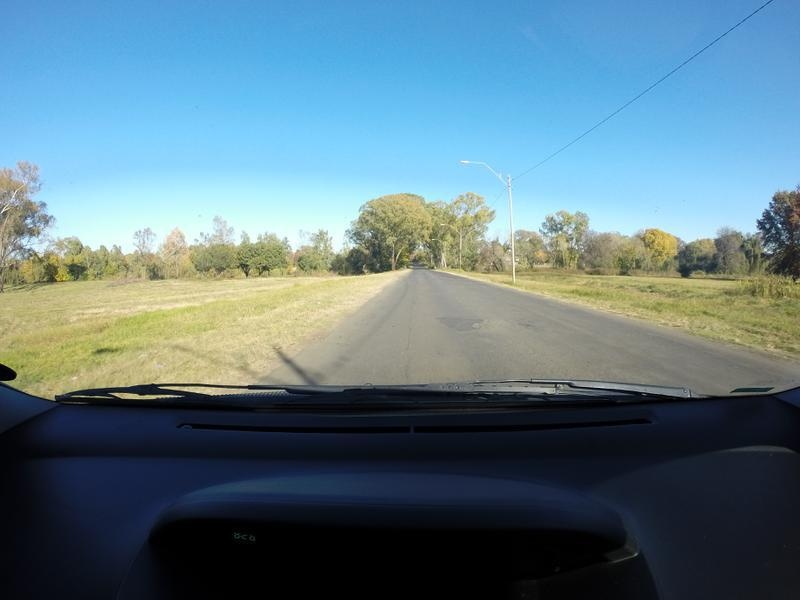pothole: (518, 317, 544, 336)
